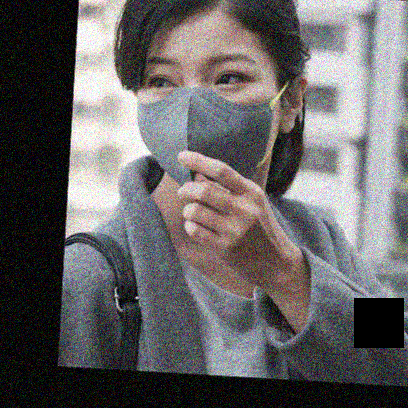with_mask: (132, 49, 281, 196)
